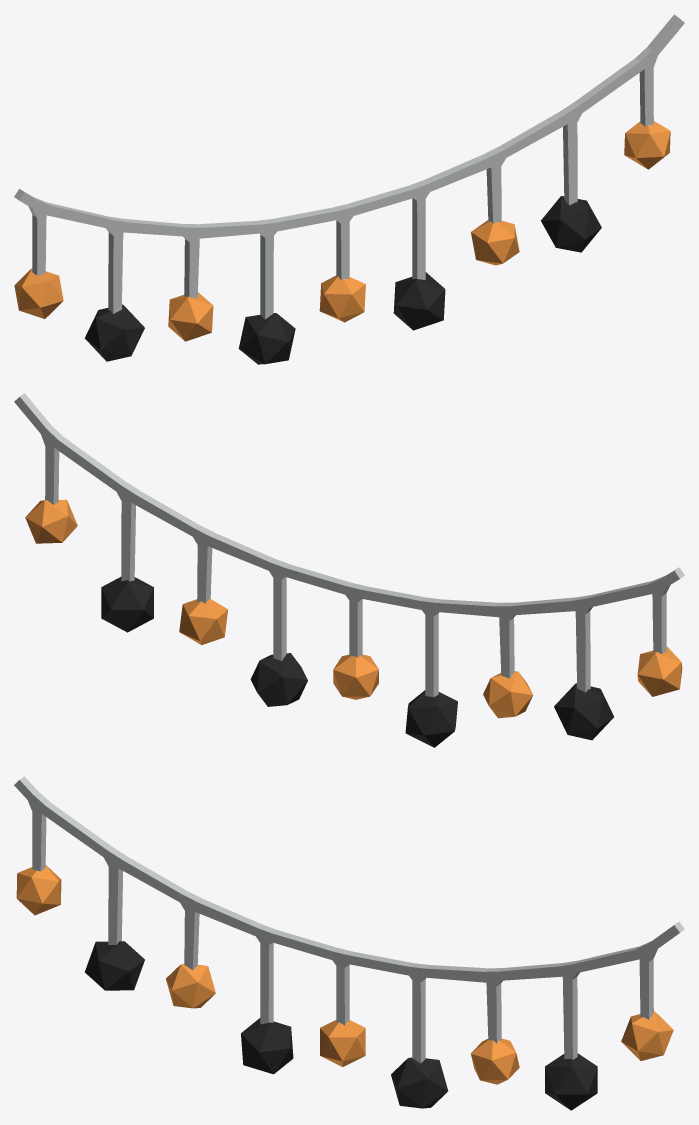
Rendered from WF_LP_HT_Props_Light.001.fbx.
The picture shows the model from 3 angles, top to bottom: view 1: azimuth 30°, elevation 25°; view 2: azimuth 150°, elevation 25°; view 3: azimuth 330°, elevation 25°; orthographic projection.
Parts seen in each view (by area): view 1: WF_LP_HT_Props_Light.001; view 2: WF_LP_HT_Props_Light.001; view 3: WF_LP_HT_Props_Light.001.
Boxes of the visible parts, bbox=[...] form: WF_LP_HT_Props_Light.001: bbox=[14, 14, 684, 364]; WF_LP_HT_Props_Light.001: bbox=[14, 393, 684, 747]; WF_LP_HT_Props_Light.001: bbox=[14, 776, 684, 1110].
Size of the model in its own units: 5.4 by 1.93 by 0.4301.
